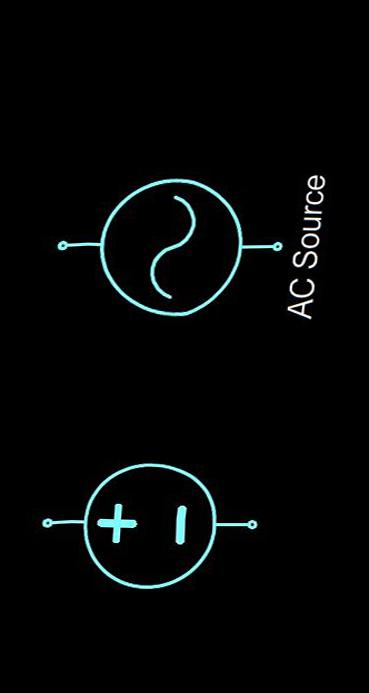Battery: (39, 437, 240, 617)
